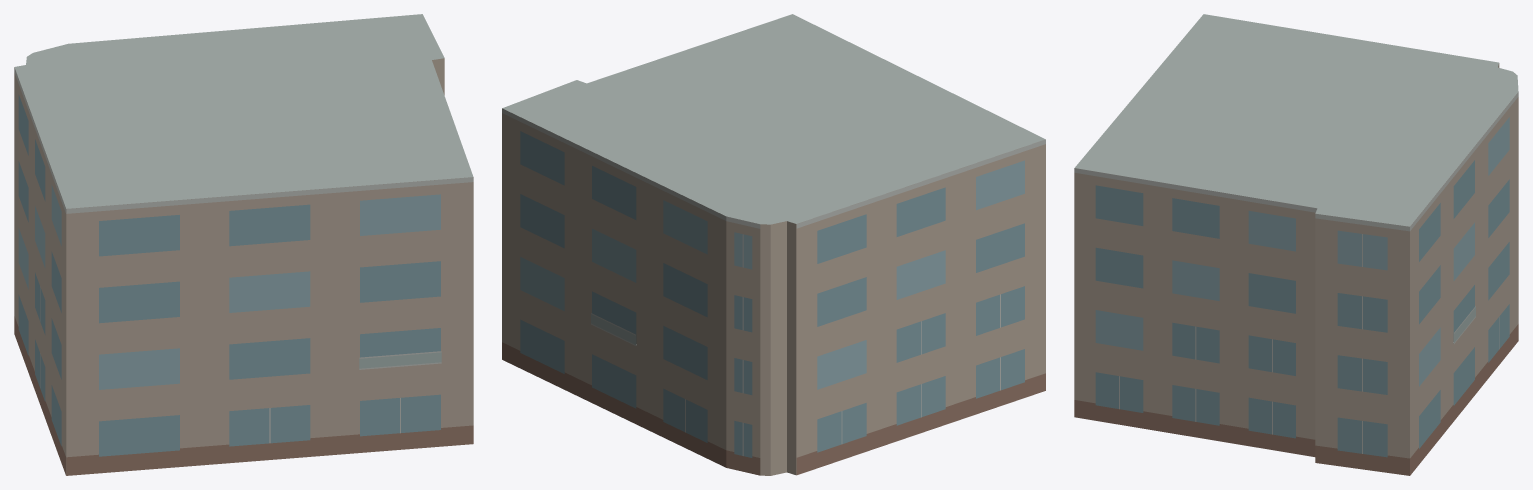
The model's file is survey-upis-32846372.glb.
3 renders of one model, left to right at view 1: azimuth 30°, elevation 25°; view 2: azimuth 150°, elevation 25°; view 3: azimuth 270°, elevation 25°, orthographic. The views are drawn at different scales.
Parts seen in each view (by area): view 1: survey-upis-32846372.tmp; view 2: survey-upis-32846372.tmp; view 3: survey-upis-32846372.tmp.
Part boxes in pixels (x1,y1,x2,y2): survey-upis-32846372.tmp: (14, 14, 473, 475); survey-upis-32846372.tmp: (502, 14, 1045, 475); survey-upis-32846372.tmp: (1074, 14, 1518, 475).
Size of the model in its own units: 23.81 by 13 by 21.01.
